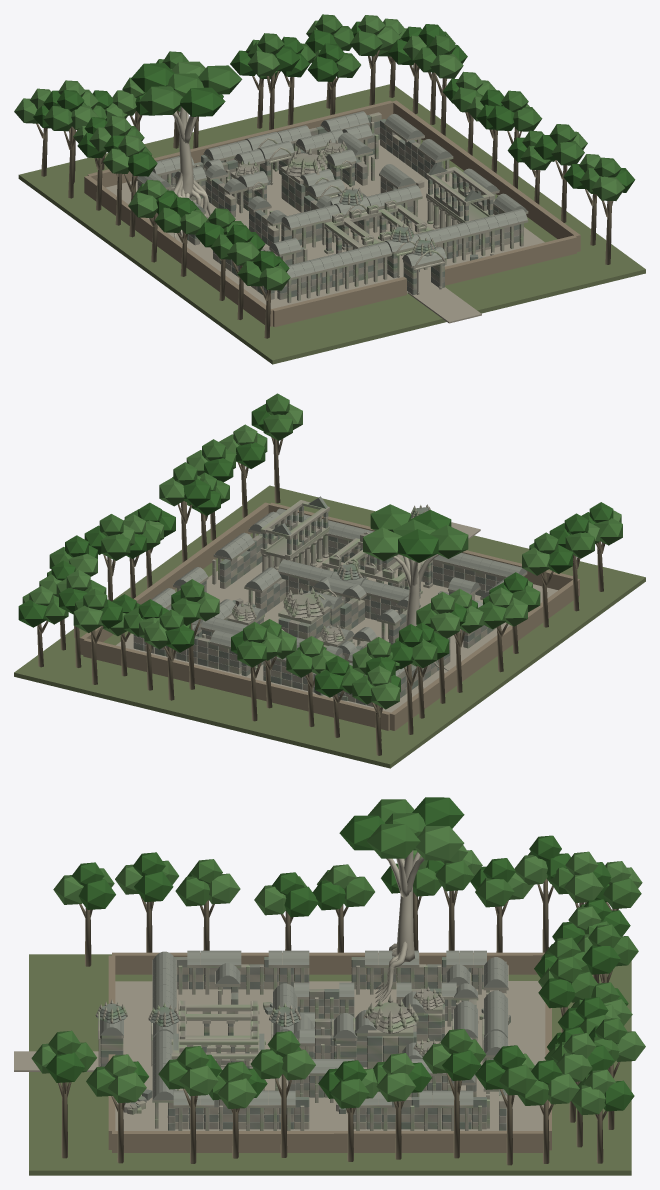
The model's file is preah-khan-normal.glb.
The picture shows the model from 3 angles, top to bottom: view 1: azimuth 30°, elevation 25°; view 2: azimuth 150°, elevation 25°; view 3: azimuth 270°, elevation 25°; orthographic projection. The views are drawn at different scales.
Parts seen in each view (by area): view 1: Forest floor, Corbelled stone roofs, Forest canopy 0, Laterite enclosure, Forest canopy 1, Carved sandstone, Forest canopy 2, Forest trunks, Courtyard paving, Weathered sandstone 1, Weathered sandstone 2, Weathered sandstone 3 (+2 smaller); view 2: Forest floor, Forest canopy 1, Forest canopy 0, Forest canopy 2, Laterite enclosure, Forest trunks, Corbelled stone roofs, Carved sandstone, Weathered sandstone 1, Courtyard paving, Weathered sandstone 2, Weathered sandstone 0 (+2 smaller); view 3: Forest floor, Forest canopy 1, Forest canopy 0, Forest canopy 2, Corbelled stone roofs, Courtyard paving, Laterite enclosure, Carved sandstone, Forest trunks, Weathered sandstone 1, Weathered sandstone 2, Weathered sandstone 0 (+2 smaller).
Part boxes in pixels (bbox=[...]): Forest floor: bbox=[18, 84, 645, 364]; Corbelled stone roofs: bbox=[137, 111, 527, 277]; Forest canopy 0: bbox=[33, 21, 635, 272]; Laterite enclosure: bbox=[84, 100, 580, 327]; Forest canopy 1: bbox=[43, 14, 621, 286]; Carved sandstone: bbox=[136, 122, 528, 303]; Forest canopy 2: bbox=[14, 15, 624, 290]; Forest trunks: bbox=[36, 50, 613, 338]; Courtyard paving: bbox=[106, 139, 544, 323]; Weathered sandstone 1: bbox=[161, 123, 519, 299]; Weathered sandstone 2: bbox=[137, 115, 519, 297]; Weathered sandstone 3: bbox=[137, 112, 509, 294]; Forest floor: bbox=[14, 485, 645, 768]; Forest canopy 1: bbox=[45, 393, 622, 704]; Forest canopy 0: bbox=[18, 404, 613, 697]; Forest canopy 2: bbox=[22, 404, 621, 709]; Laterite enclosure: bbox=[80, 502, 579, 730]; Forest trunks: bbox=[37, 437, 605, 755]; Corbelled stone roofs: bbox=[151, 508, 526, 675]; Carved sandstone: bbox=[165, 500, 527, 676]; Weathered sandstone 1: bbox=[133, 519, 503, 706]; Courtyard paving: bbox=[116, 522, 557, 712]; Weathered sandstone 2: bbox=[133, 496, 496, 705]; Weathered sandstone 0: bbox=[133, 506, 499, 700]; Forest floor: bbox=[29, 954, 631, 1175]; Forest canopy 1: bbox=[48, 799, 641, 1108]; Forest canopy 0: bbox=[46, 797, 634, 1111]; Forest canopy 2: bbox=[31, 826, 645, 1115]; Corbelled stone roofs: bbox=[100, 950, 507, 1104]; Courtyard paving: bbox=[14, 981, 545, 1130]; Laterite enclosure: bbox=[108, 952, 551, 1152]; Carved sandstone: bbox=[95, 955, 508, 1130]; Forest trunks: bbox=[58, 878, 620, 1165]; Weathered sandstone 1: bbox=[100, 967, 506, 1129]; Weathered sandstone 2: bbox=[97, 957, 506, 1129]; Weathered sandstone 0: bbox=[100, 957, 510, 1130].
Size of the model in its own units: 36.08 by 13.88 by 41.95.
